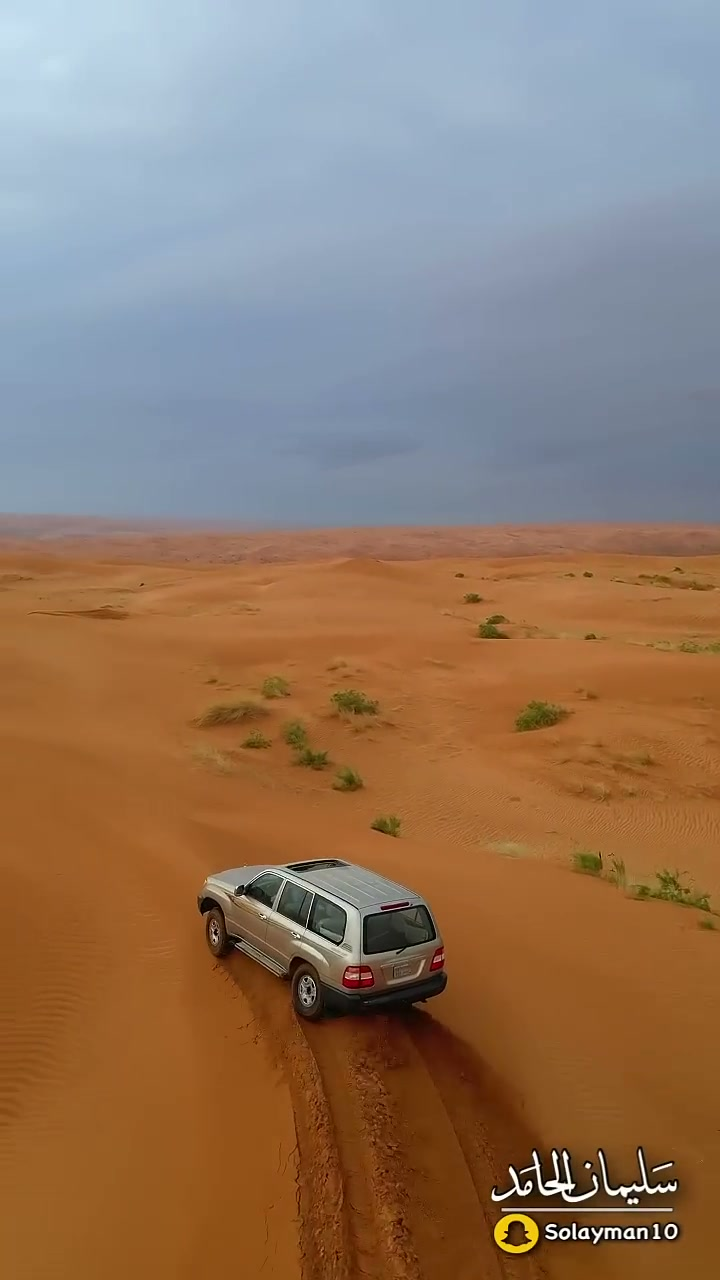vehicle_track: (223, 955, 543, 1279)
